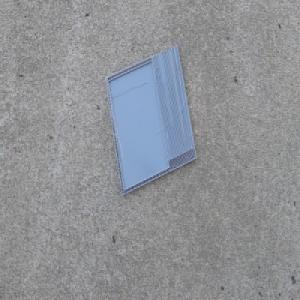PlasticPart: (103, 43, 197, 197)
